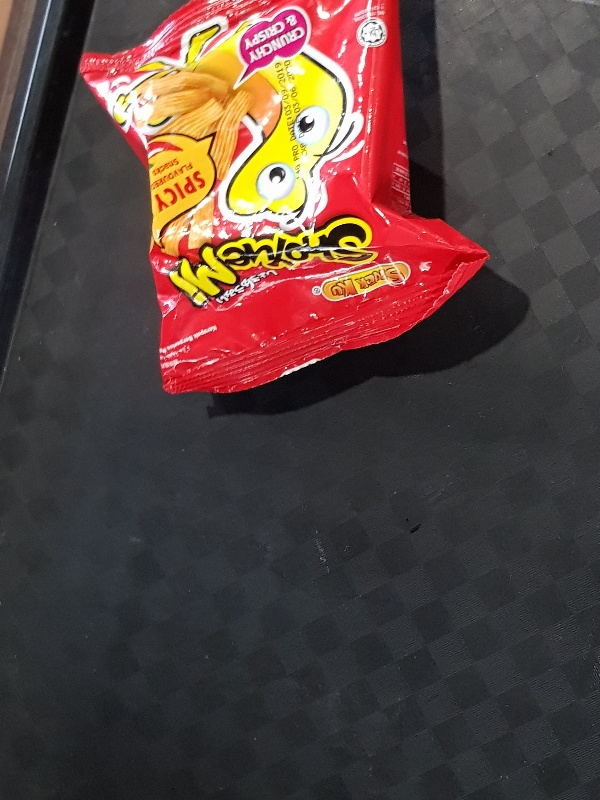ShoyueMi Spicy Flavoured Snacks: (77, 1, 491, 395)
